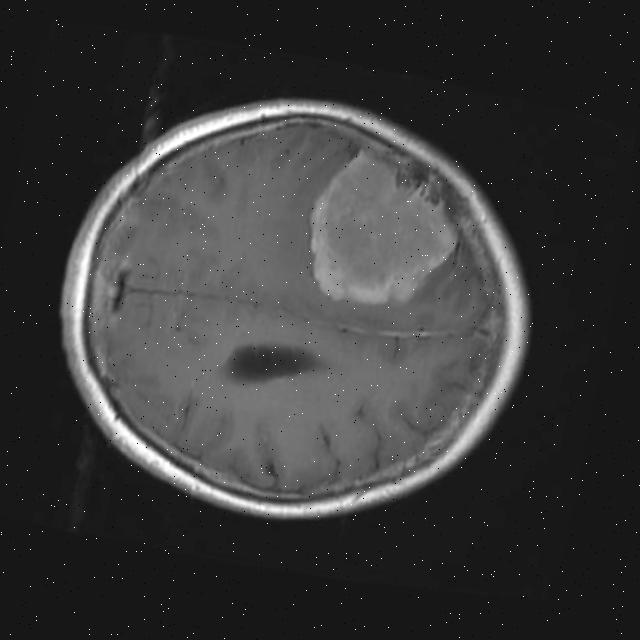Meningioma: (293, 143, 472, 320)
